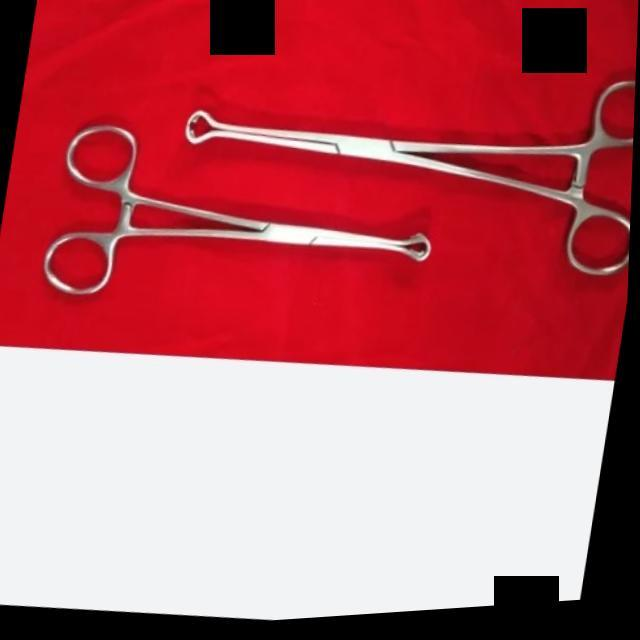Babcock Forceps: (156, 0, 640, 308), (25, 100, 453, 342)
